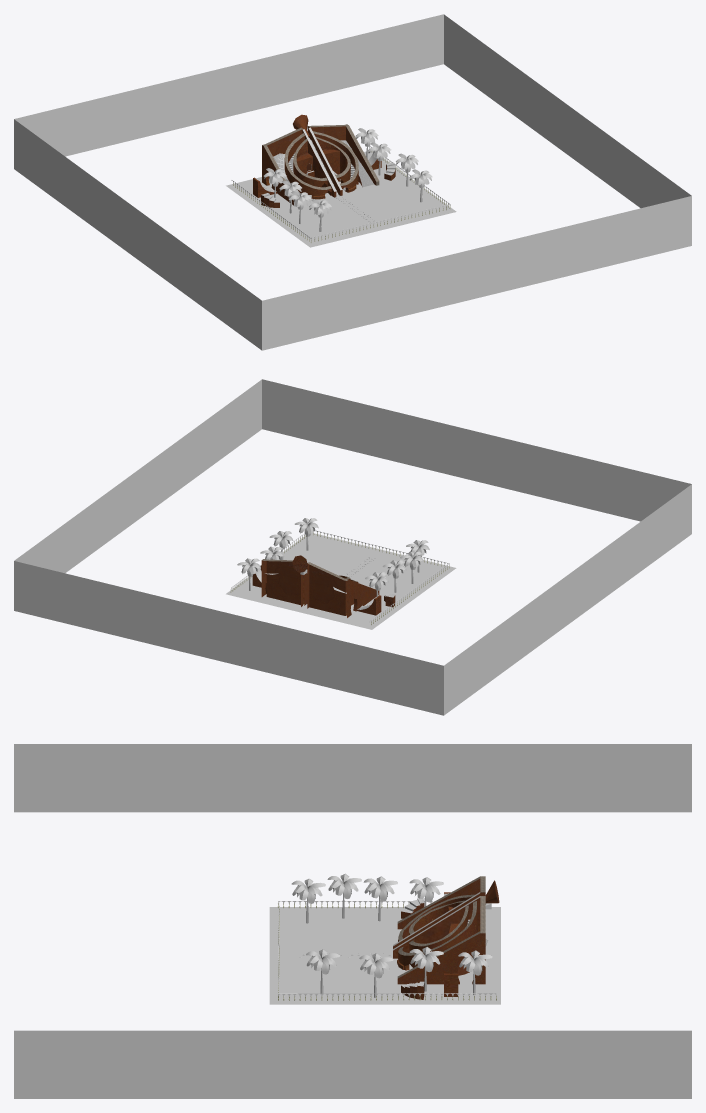
The model's file is observatório.fbx.
3 renders of one model, top to bottom at view 1: azimuth 30°, elevation 25°; view 2: azimuth 150°, elevation 25°; view 3: azimuth 270°, elevation 25°, orthographic. The views are drawn at different scales.
Parts seen in each view (by area): view 1: ground.001, ground, paredes circulares internas, paredes externas, paredes da escada do meio, estrutura interna; view 2: ground.001, ground, paredes externas; view 3: ground.001, ground, paredes externas, paredes circulares internas, paredes da escada do meio, Column_box_bottom.001, Circle.001.
Part boxes in pixels (x1,y1,x2,y2): ground.001: (14, 14, 691, 350); ground: (226, 151, 456, 247); paredes circulares internas: (284, 131, 358, 199); paredes externas: (262, 124, 379, 205); paredes da escada do meio: (302, 127, 342, 197); estrutura interna: (296, 149, 339, 174); ground.001: (14, 379, 691, 715); ground: (226, 533, 456, 629); paredes externas: (261, 559, 379, 617); ground.001: (14, 744, 691, 1098); ground: (269, 907, 500, 1004); paredes externas: (397, 876, 485, 984); paredes circulares internas: (397, 894, 477, 975); paredes da escada do meio: (393, 892, 480, 958); Column_box_bottom.001: (278, 993, 496, 1000); Circle.001: (401, 898, 424, 999).
Size of what is drawn, in the model's own units: 19904 by 2438 by 19904.
